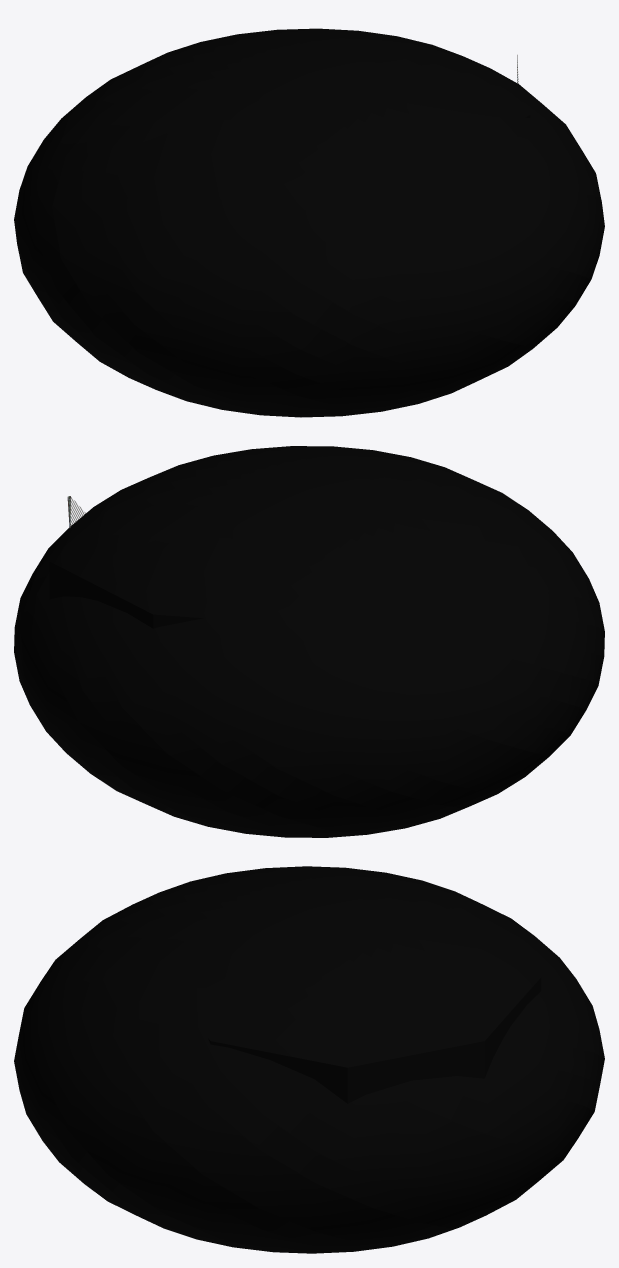
The model's file is modernn_diner.glb.
3 views of the same model, one above another, from view 1: azimuth 30°, elevation 25°; view 2: azimuth 150°, elevation 25°; view 3: azimuth 270°, elevation 25° (orthographic).
Parts seen in each view (by area): view 1: Material2; view 2: Material2; view 3: Material2.
Part boxes in pixels (box(x1,y1,x2,y2)): Material2: box(14, 28, 604, 417); Material2: box(14, 446, 604, 837); Material2: box(14, 866, 604, 1253).
Size of what is drawn, in the model's own units: 5.35 by 3 by 5.35.
54 materials, 54 textured.
